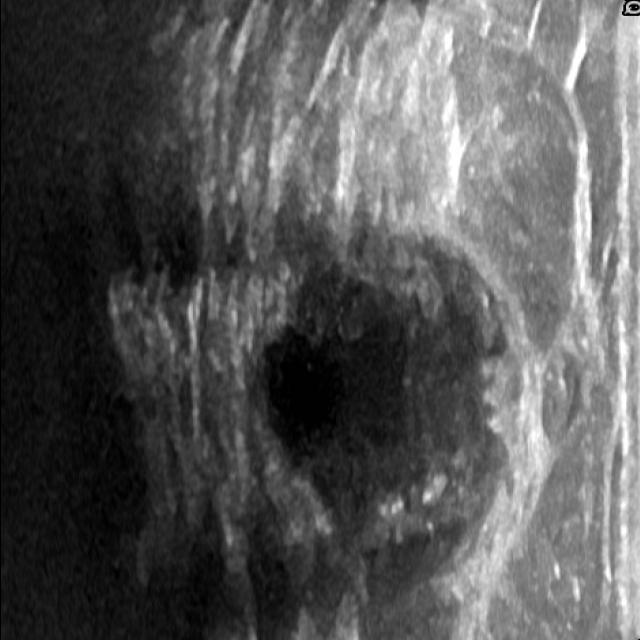Malignant: (284, 278, 503, 528)
